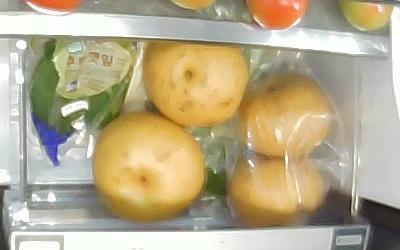pear: (92, 112, 204, 222), (142, 40, 249, 125)
pear_vinyl: (236, 72, 333, 158), (229, 153, 323, 228)
